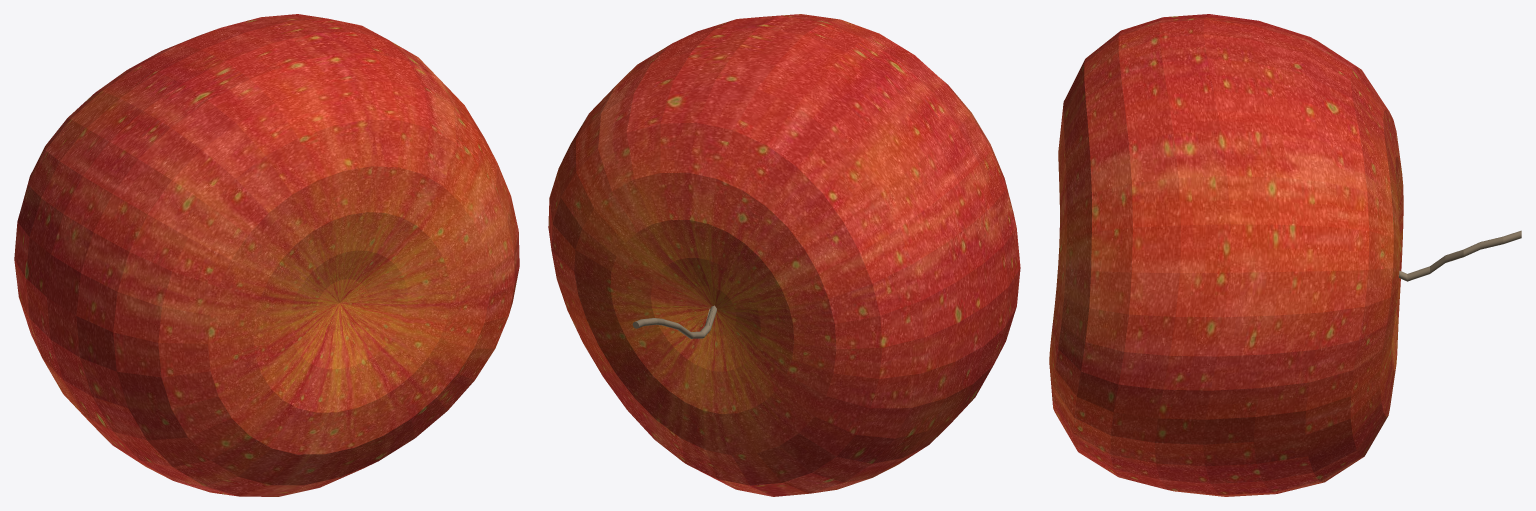
The model's file is apple.glb.
3 renders of one model, left to right at view 1: azimuth 30°, elevation 25°; view 2: azimuth 150°, elevation 25°; view 3: azimuth 270°, elevation 25°, orthographic. The views are drawn at different scales.
Visible parts, largest first — view 1: Sphere; view 2: Sphere, Cylinder; view 3: Sphere, Cylinder.
Part boxes in pixels (x1=…): Sphere: x1=14, y1=14, x2=519, y2=496; Sphere: x1=548, y1=14, x2=1020, y2=496; Cylinder: x1=632, y1=305, x2=716, y2=338; Sphere: x1=1049, y1=14, x2=1403, y2=496; Cylinder: x1=1399, y1=230, x2=1521, y2=281.
Bounding box in the file's own units: 2.01 × 1.96 × 1.87.
Materials: 2 (1 with a texture image).
